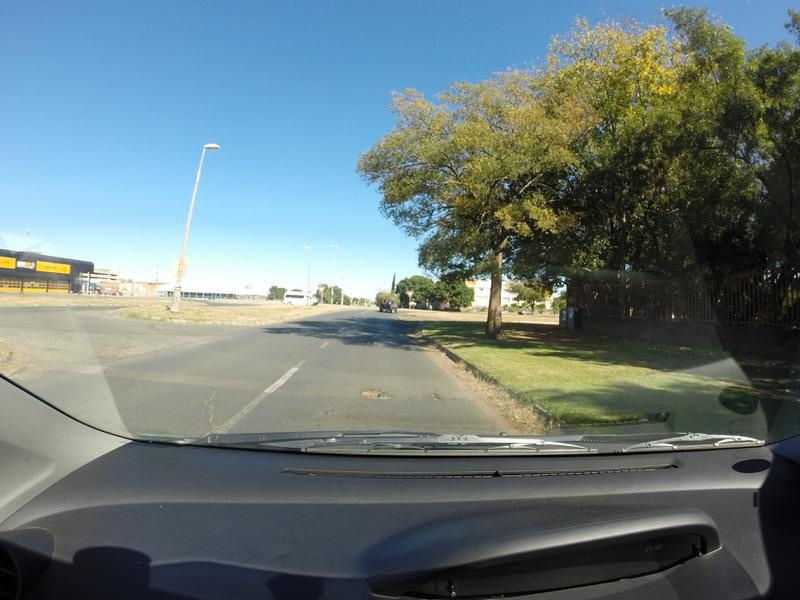pothole: (361, 387, 389, 400), (431, 391, 437, 402)
